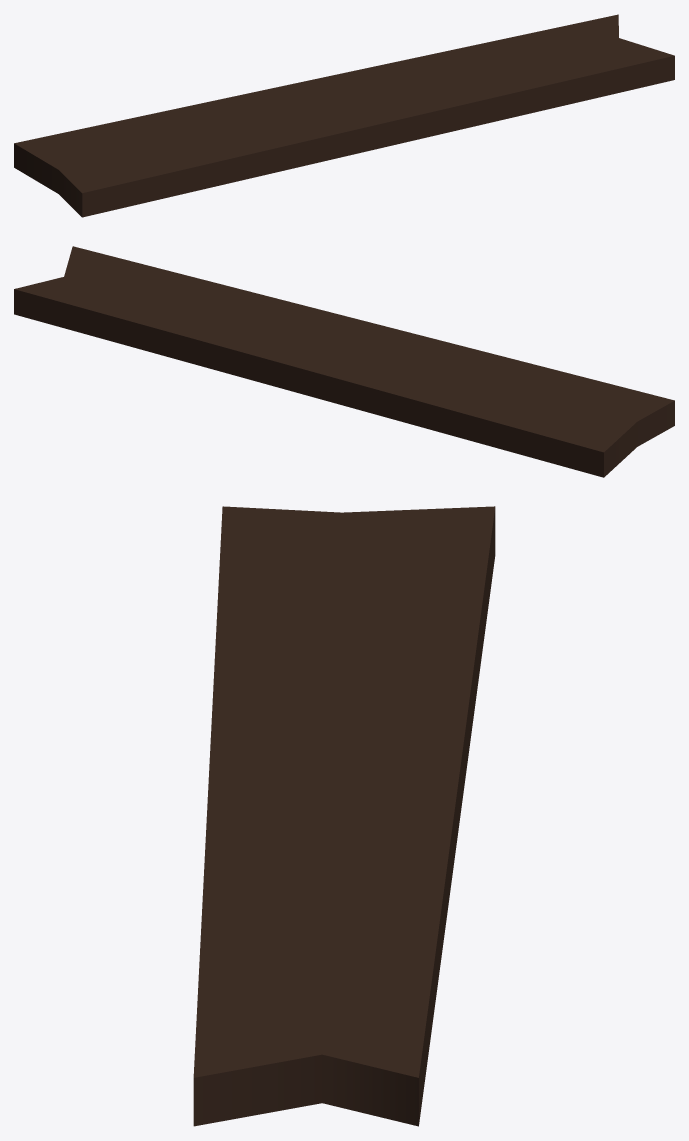
File: envi_woodPlank2.fbx
3 renders of one model, top to bottom at view 1: azimuth 30°, elevation 25°; view 2: azimuth 150°, elevation 25°; view 3: azimuth 270°, elevation 25°, orthographic. The views are drawn at different scales.
Parts seen in each view (by area): view 1: pCube47; view 2: pCube47; view 3: pCube47.
Part boxes in pixels (x1,y1,x2,y2): pCube47: [14, 14, 674, 217]; pCube47: [14, 246, 674, 477]; pCube47: [193, 506, 495, 1126].
Bounding box in the file's own units: 2.78 × 0.1103 × 0.6209.
